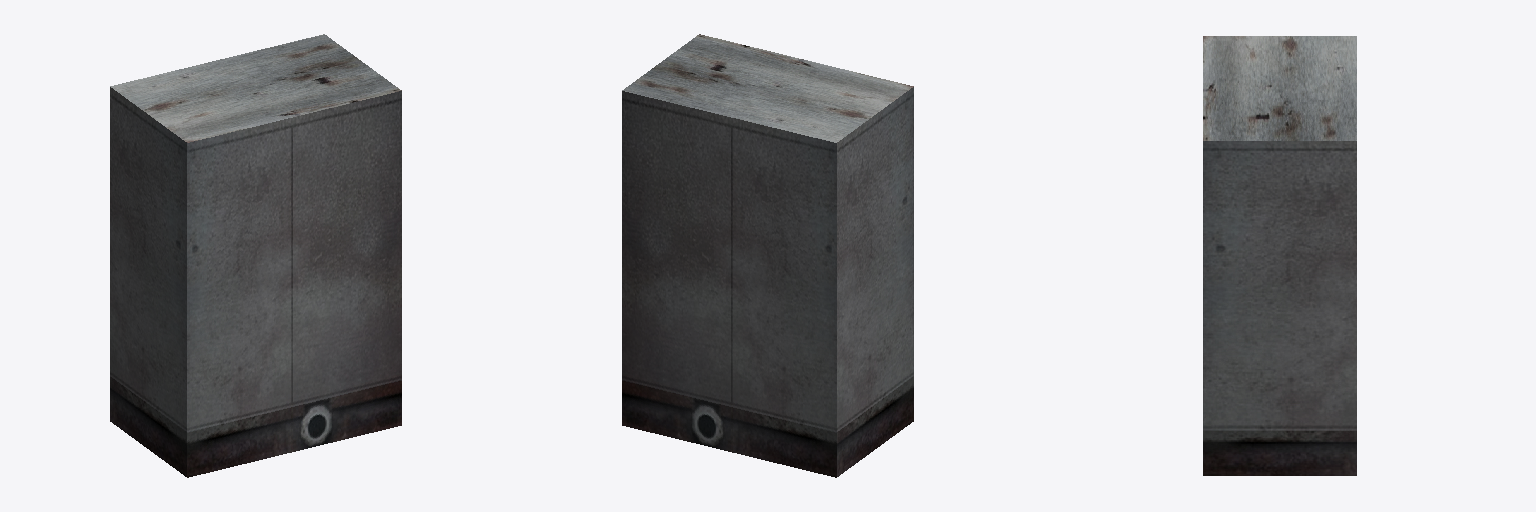
3 views of the same model, side by side, from view 1: azimuth 30°, elevation 25°; view 2: azimuth 150°, elevation 25°; view 3: azimuth 270°, elevation 25° (orthographic).
Parts seen in each view (by area): view 1: electricBox_2; view 2: electricBox_2; view 3: electricBox_2.
Part boxes in pixels (bbox=[...]): electricBox_2: bbox=[110, 34, 401, 477]; electricBox_2: bbox=[622, 34, 913, 477]; electricBox_2: bbox=[1203, 36, 1356, 475].
Size of the model in its own units: 0.8 by 1.19 by 0.5.
1 materials, 1 textured.